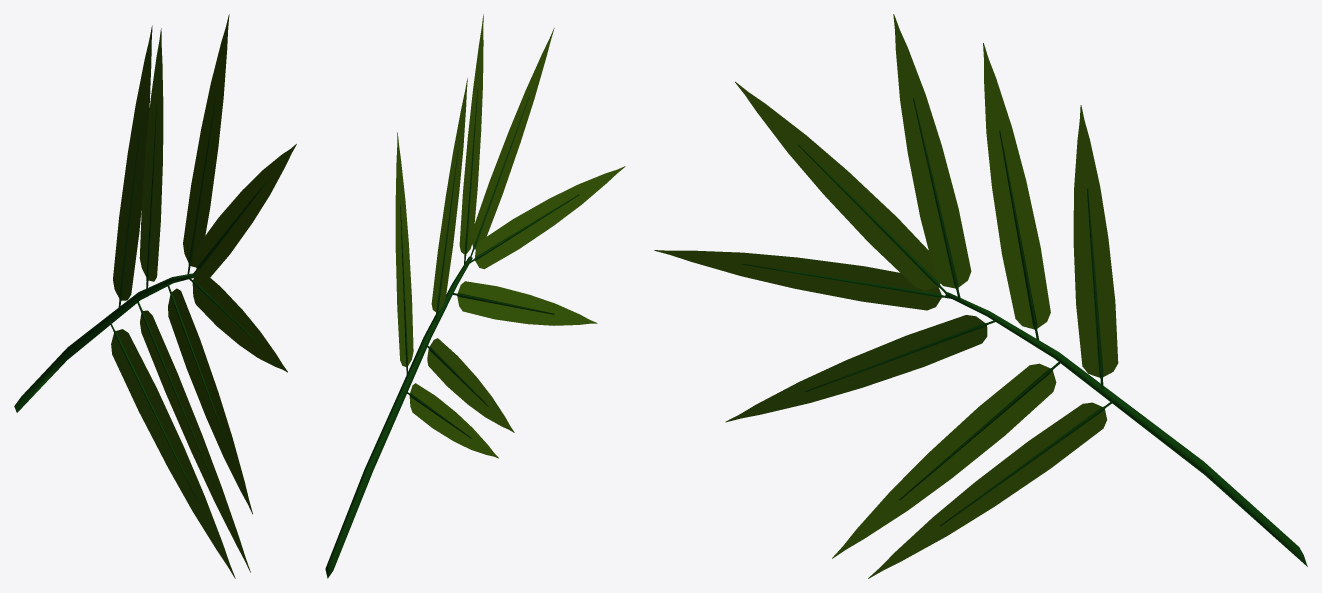
File: BambooBranchv1.fbx
The picture shows the model from 3 angles, left to right: view 1: azimuth 30°, elevation 25°; view 2: azimuth 150°, elevation 25°; view 3: azimuth 270°, elevation 25°; orthographic projection. The views are drawn at different scales.
Visible parts, largest first — view 1: BambooE.003; view 2: BambooE.003; view 3: BambooE.003.
Boxes of the visible parts, x1,y1,x2,y2 form: BambooE.003: (14,14,296,578); BambooE.003: (325,14,625,578); BambooE.003: (654,14,1307,578).
Bounding box in the file's own units: 6.39 × 46.55 × 48.55.
